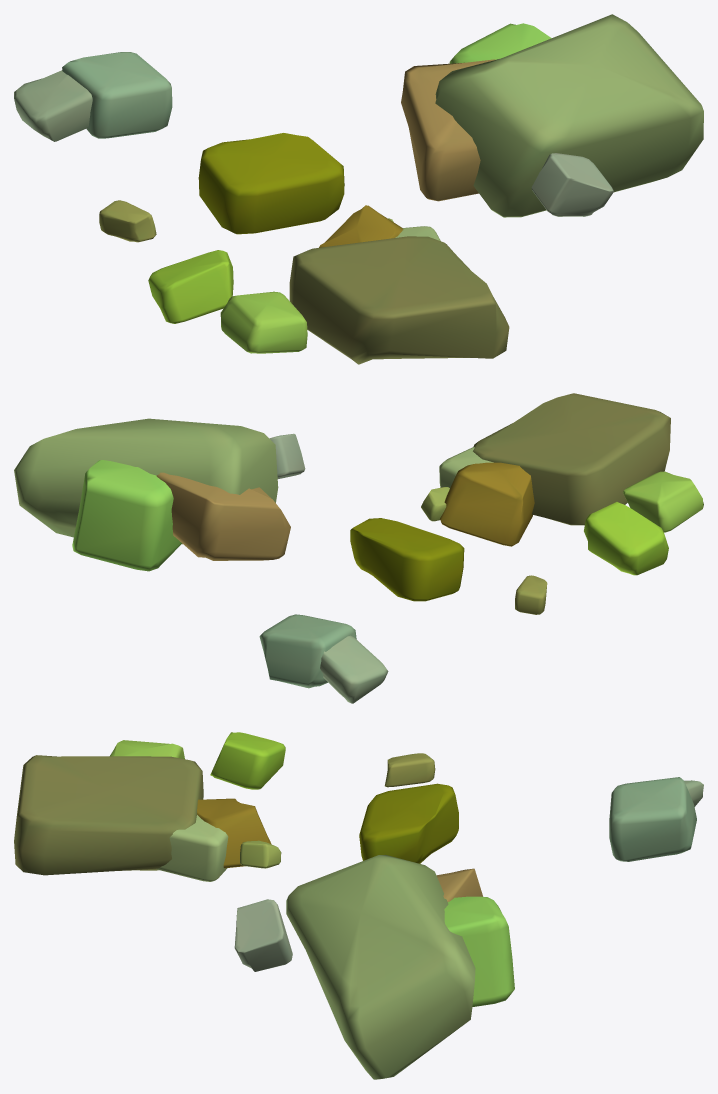
Rendered from SM_Scree_A.glb.
The picture shows the model from 3 angles, top to bottom: view 1: azimuth 30°, elevation 25°; view 2: azimuth 150°, elevation 25°; view 3: azimuth 270°, elevation 25°; orthographic projection. The views are drawn at different scales.
Parts seen in each view (by area): view 1: SM_Scree_A; view 2: SM_Scree_A; view 3: SM_Scree_A.
Boxes of the visible parts, box(x1,y1,x2,y2) form: SM_Scree_A: box(14, 14, 703, 364); SM_Scree_A: box(14, 393, 703, 703); SM_Scree_A: box(14, 732, 703, 1079).
Bounding box in the file's own units: 1.54 × 0.3723 × 1.59.
